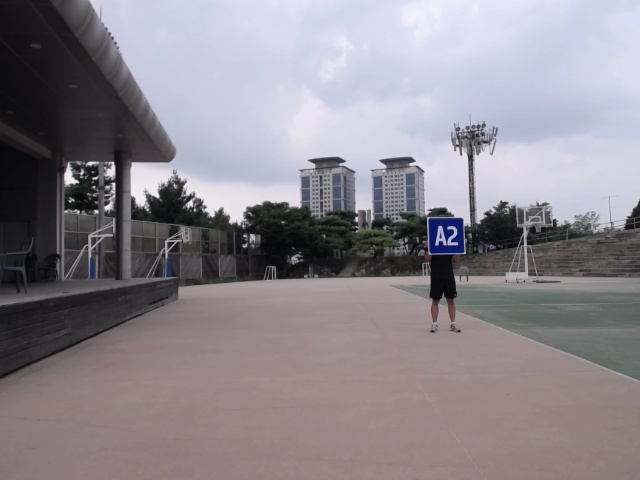delivery_a2: (428, 218, 465, 254)
